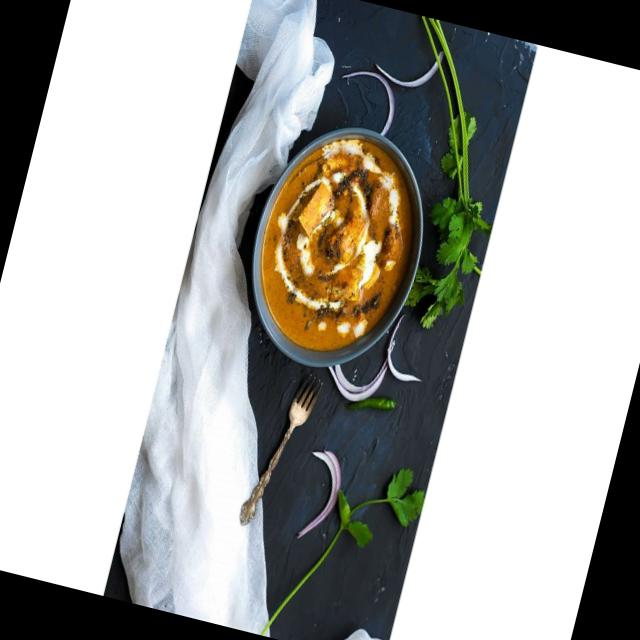ShahiPaneer: (240, 114, 433, 364)
